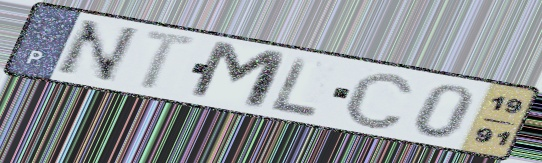0: (411, 82, 474, 140)
C: (340, 70, 417, 132)
L: (269, 54, 320, 119)
M: (184, 38, 292, 113)
N: (49, 18, 144, 86)
T: (136, 27, 204, 93)
